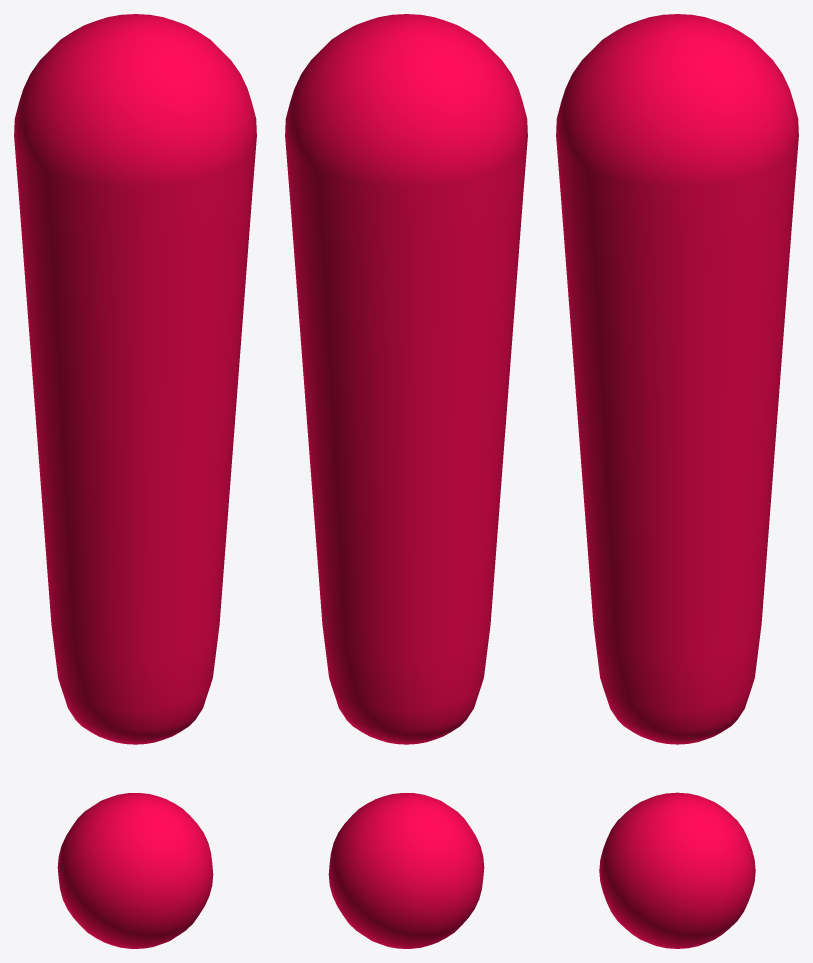
The model's file is ExMark.fbx.
3 renders of one model, left to right at view 1: azimuth 30°, elevation 25°; view 2: azimuth 150°, elevation 25°; view 3: azimuth 270°, elevation 25°, orthographic.
Visible parts, largest first — view 1: ExMark_Geo; view 2: ExMark_Geo; view 3: ExMark_Geo.
Part boxes in pixels (x1,y1,x2,y2): ExMark_Geo: [14, 14, 256, 948]; ExMark_Geo: [285, 14, 527, 948]; ExMark_Geo: [556, 14, 798, 948].
Bounding box in the file's own units: 4.91 × 20.43 × 4.91.
